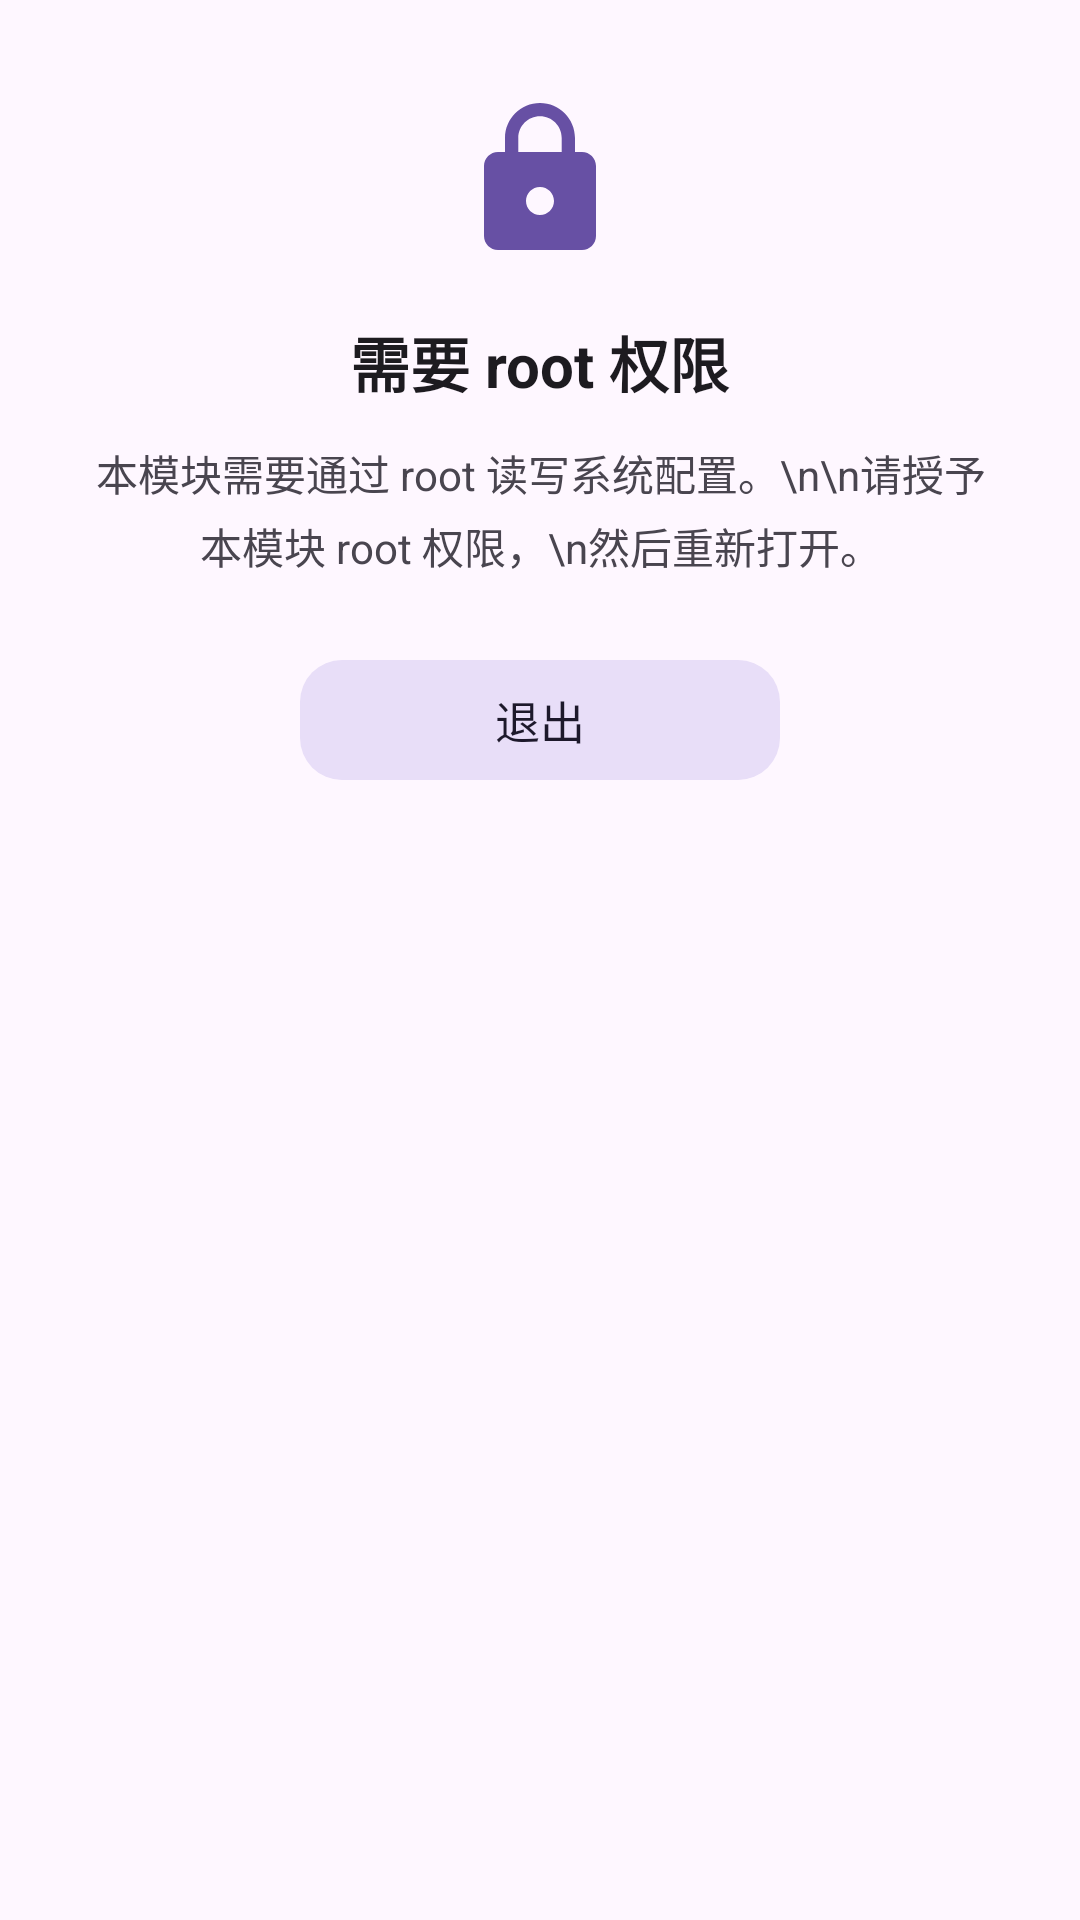

Named icons in this screenshot (1080px×1920px) and their bounding boxes, (x1, y1, x2, y2):
lock: (484, 103, 596, 250)
